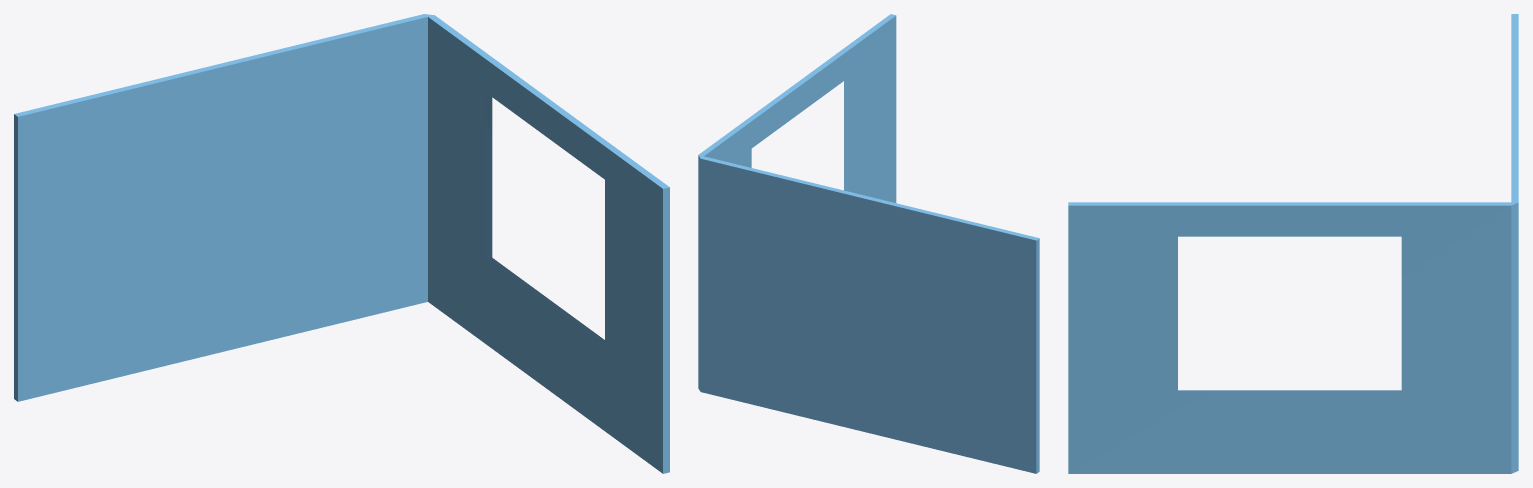
Rendered from Wall.glb.
3 views of the same model, side by side, from view 1: azimuth 30°, elevation 25°; view 2: azimuth 150°, elevation 25°; view 3: azimuth 270°, elevation 25° (orthographic). The views are drawn at different scales.
Visible parts, largest first — view 1: Wall; view 2: Wall; view 3: Wall.
Part boxes in pixels (x1,y1,x2,y2): Wall: (14, 14, 669, 473); Wall: (698, 14, 1039, 473); Wall: (1068, 14, 1518, 473).
Bounding box in the file's own units: 3.06 × 2 × 3.04.
